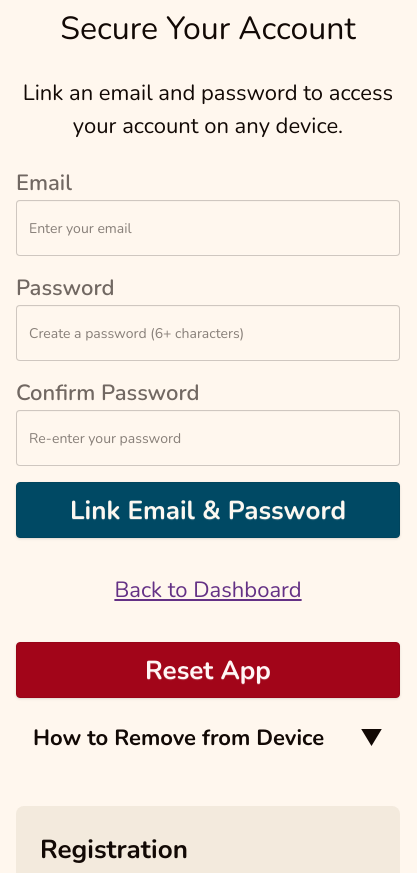
Test: CaregiverAccount › anonymous (not linked) › shows validation error when passwords do not match
This screenshot has width=417, height=873.
In the field labelled "Email": (208, 228) x1=16 y1=200 x2=400 y2=256, type "test@example.com"
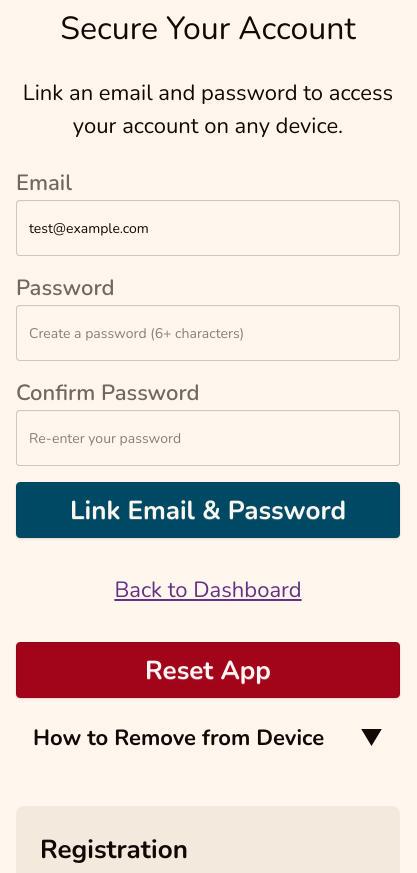
In the password field labelled "Password": (208, 333) x1=16 y1=305 x2=400 y2=361, type "password123"
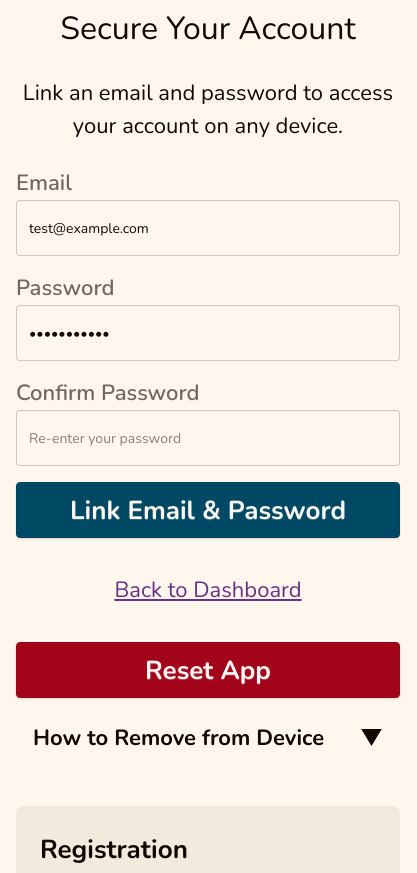
In the password field labelled "Confirm Password": (208, 438) x1=16 y1=410 x2=400 y2=466, type "different"
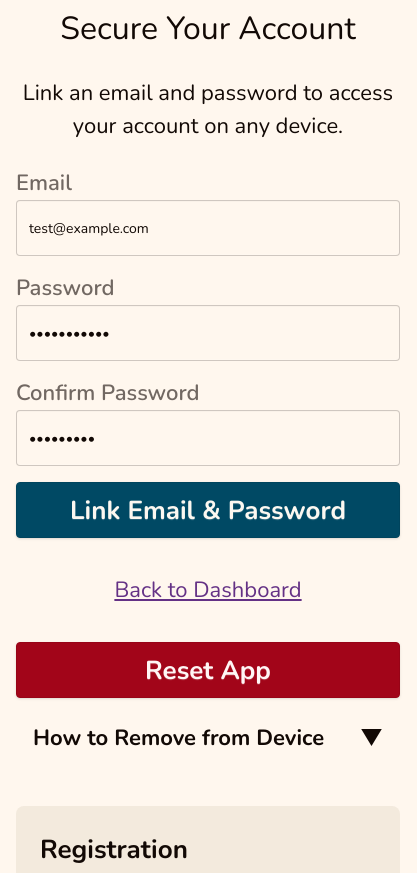
Click the button "Link Email & Password": (208, 510) x1=16 y1=482 x2=400 y2=538
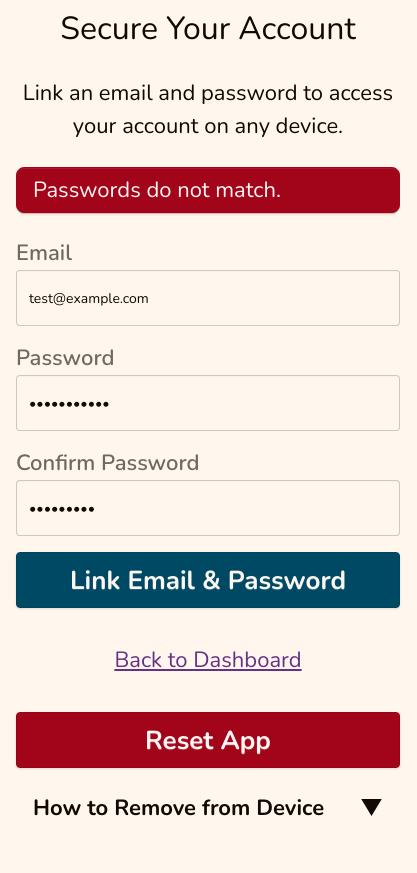
Expected: the message shows "do not match", x1=33 y1=175 x2=281 y2=205
